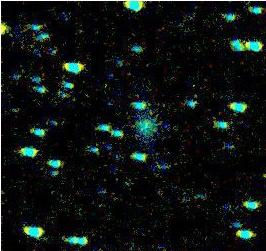star: (0, 14, 19, 44)
